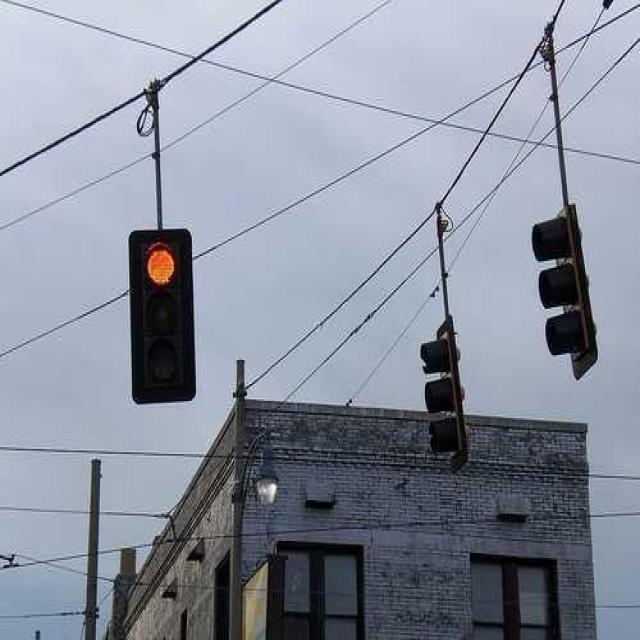Traffic Light -Red-: (133, 223, 192, 400)
